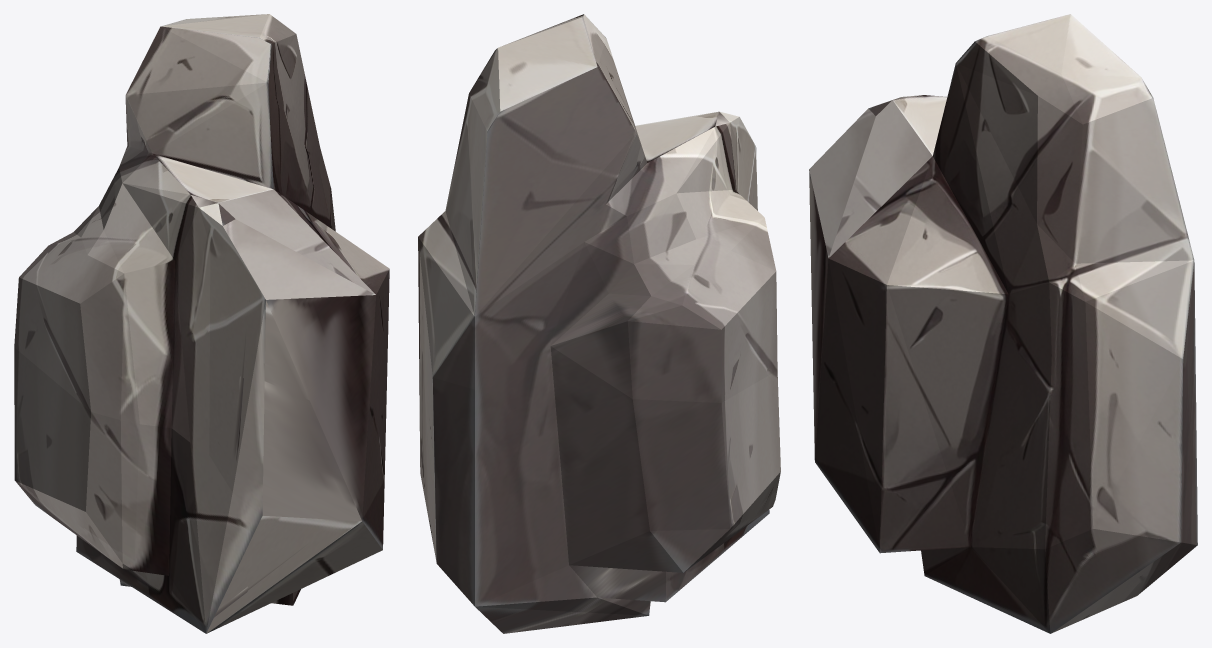
The model's file is rock.glb.
3 renders of one model, left to right at view 1: azimuth 30°, elevation 25°; view 2: azimuth 150°, elevation 25°; view 3: azimuth 270°, elevation 25°, orthographic.
Parts seen in each view (by area): view 1: debris1.light; view 2: debris1.light; view 3: debris1.light.
Boxes of the visible parts, x1,y1,x2,y2 form: debris1.light: [14, 14, 389, 633]; debris1.light: [418, 14, 780, 633]; debris1.light: [809, 14, 1197, 633].
Bounding box in the file's own units: 0.5214 × 0.9011 × 0.569.
Materials: 1 (1 with a texture image).
